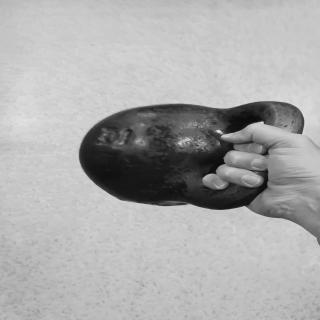kettlebell: (83, 102, 305, 212)
